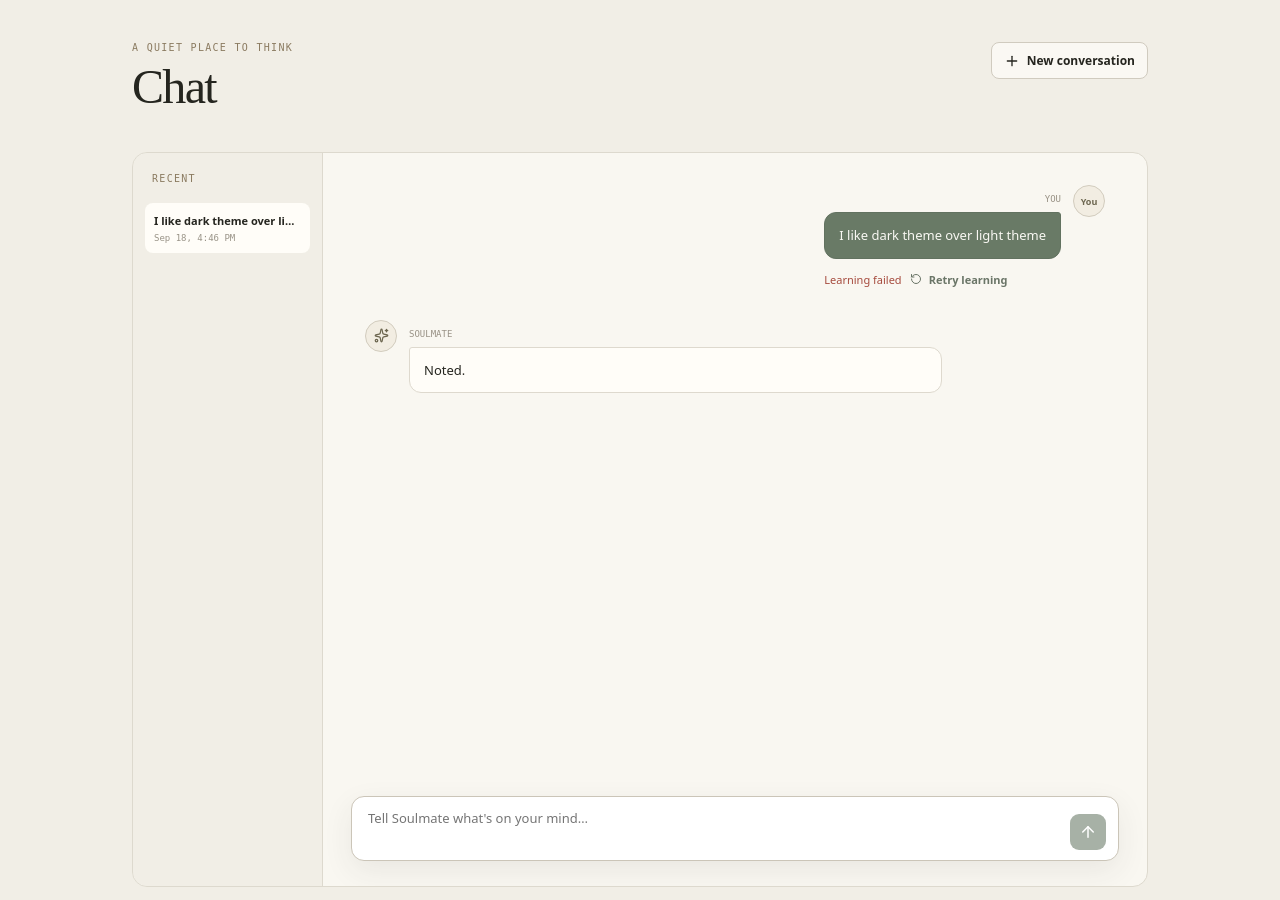
Scenario: ChatScreen learning › retries failed learning and shows it pending again
Note: the owner retries
Click the button "Retry learning".
click(959, 279)  # box [910,265,1008,294]
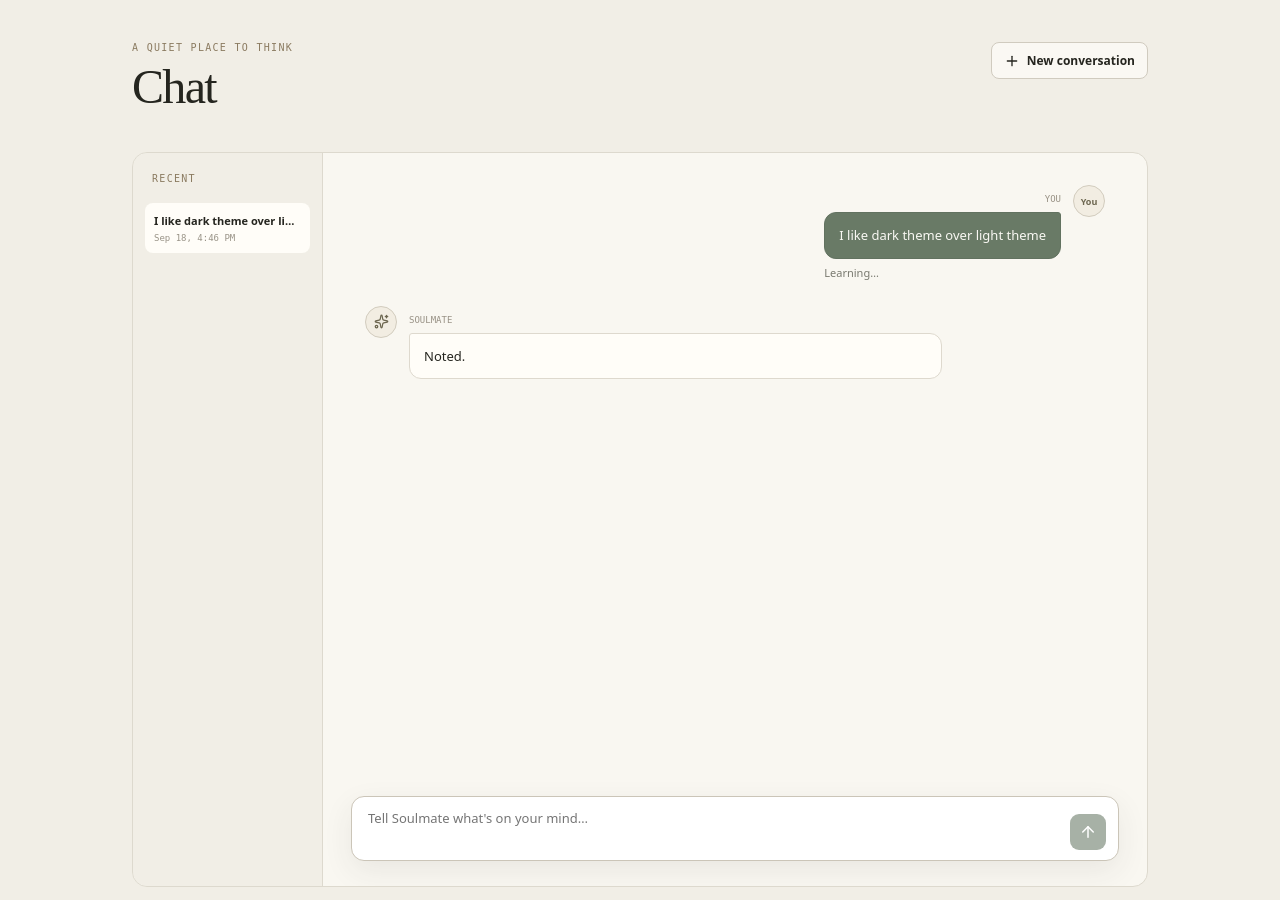
expect the text "Learning…" is shown: met, box [824,265,879,280]
expect the text "Learning failed" is gone: met
